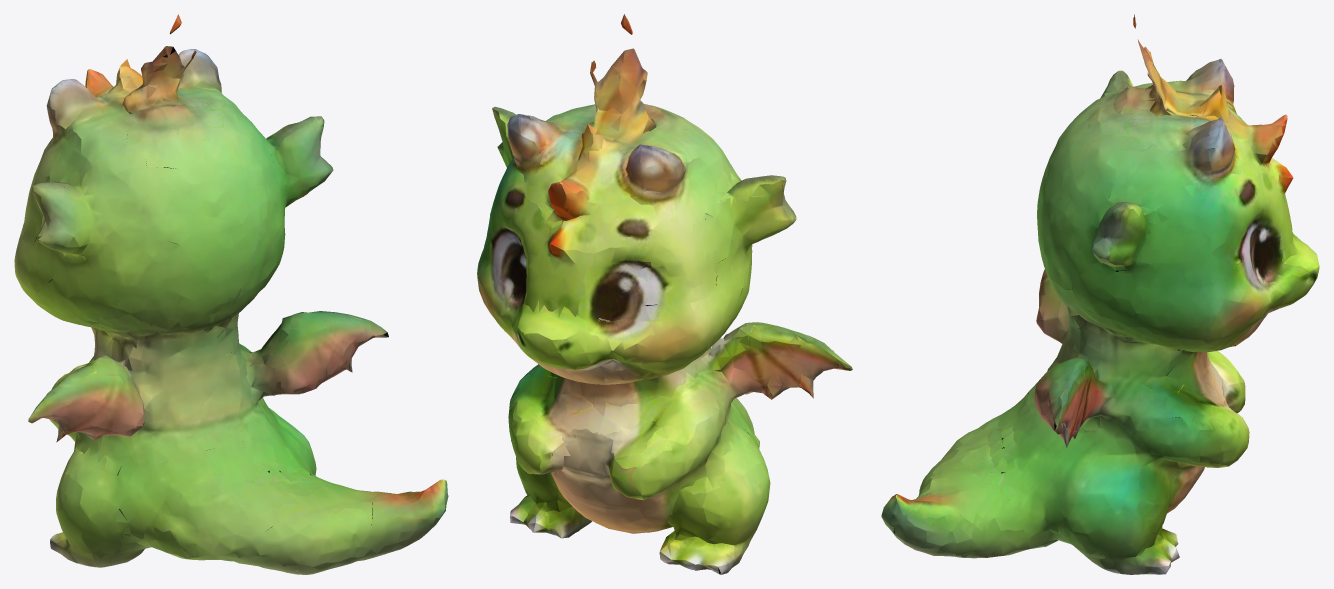
File: vonk.glb
3 renders of one model, left to right at view 1: azimuth 30°, elevation 25°; view 2: azimuth 150°, elevation 25°; view 3: azimuth 270°, elevation 25°, orthographic.
Parts seen in each view (by area): view 1: world; view 2: world; view 3: world.
Part boxes in pixels (x1,y1,x2,y2): world: (14, 14, 448, 574); world: (477, 14, 852, 574); world: (881, 14, 1319, 574).
Bounding box in the file's own units: 0.638 × 0.8872 × 0.6779.
Materials: 1 (1 with a texture image).
